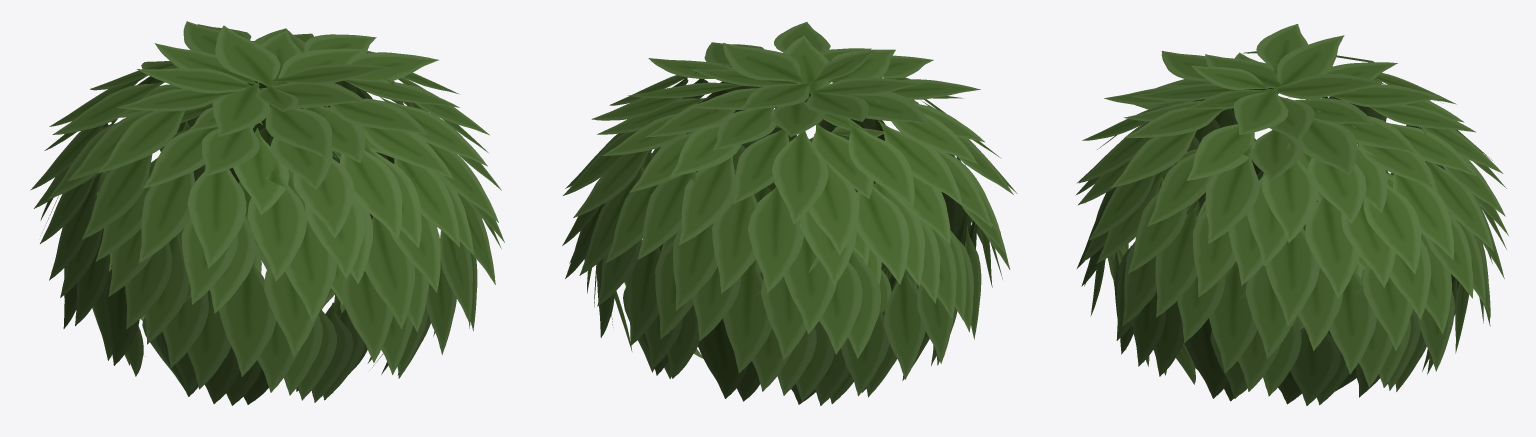
File: Bush.fbx
The picture shows the model from 3 angles, left to right: view 1: azimuth 30°, elevation 25°; view 2: azimuth 150°, elevation 25°; view 3: azimuth 270°, elevation 25°; orthographic projection. The views are drawn at different scales.
Parts seen in each view (by area): view 1: Plane.170; view 2: Plane.170; view 3: Plane.170.
Part boxes in pixels (box(x1,y1,x2,y2)): Plane.170: box(30, 21, 504, 405); Plane.170: box(562, 22, 1017, 405); Plane.170: box(1075, 24, 1508, 405).
Bounding box in the file's own units: 116 × 83.43 × 116.
